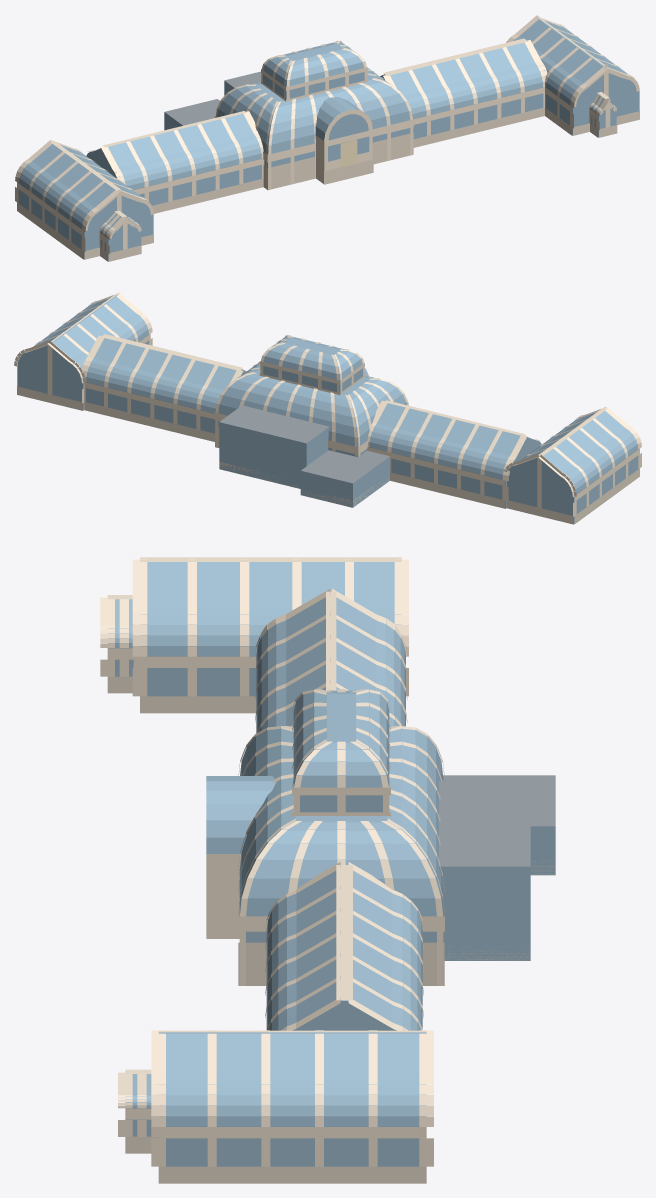
File: sea-volunteer-park-conservatory.glb
3 renders of one model, top to bottom at view 1: azimuth 30°, elevation 25°; view 2: azimuth 150°, elevation 25°; view 3: azimuth 270°, elevation 25°, orthographic. The views are drawn at different scales.
Parts seen in each view (by area): view 1: Volunteer Park Conservatory; view 2: Volunteer Park Conservatory; view 3: Volunteer Park Conservatory.
Part boxes in pixels (x1,y1,x2,y2): Volunteer Park Conservatory: (15, 15, 639, 261); Volunteer Park Conservatory: (14, 292, 641, 524); Volunteer Park Conservatory: (100, 557, 555, 1183).
Size of the model in its own units: 61.84 by 10.57 by 21.9.
